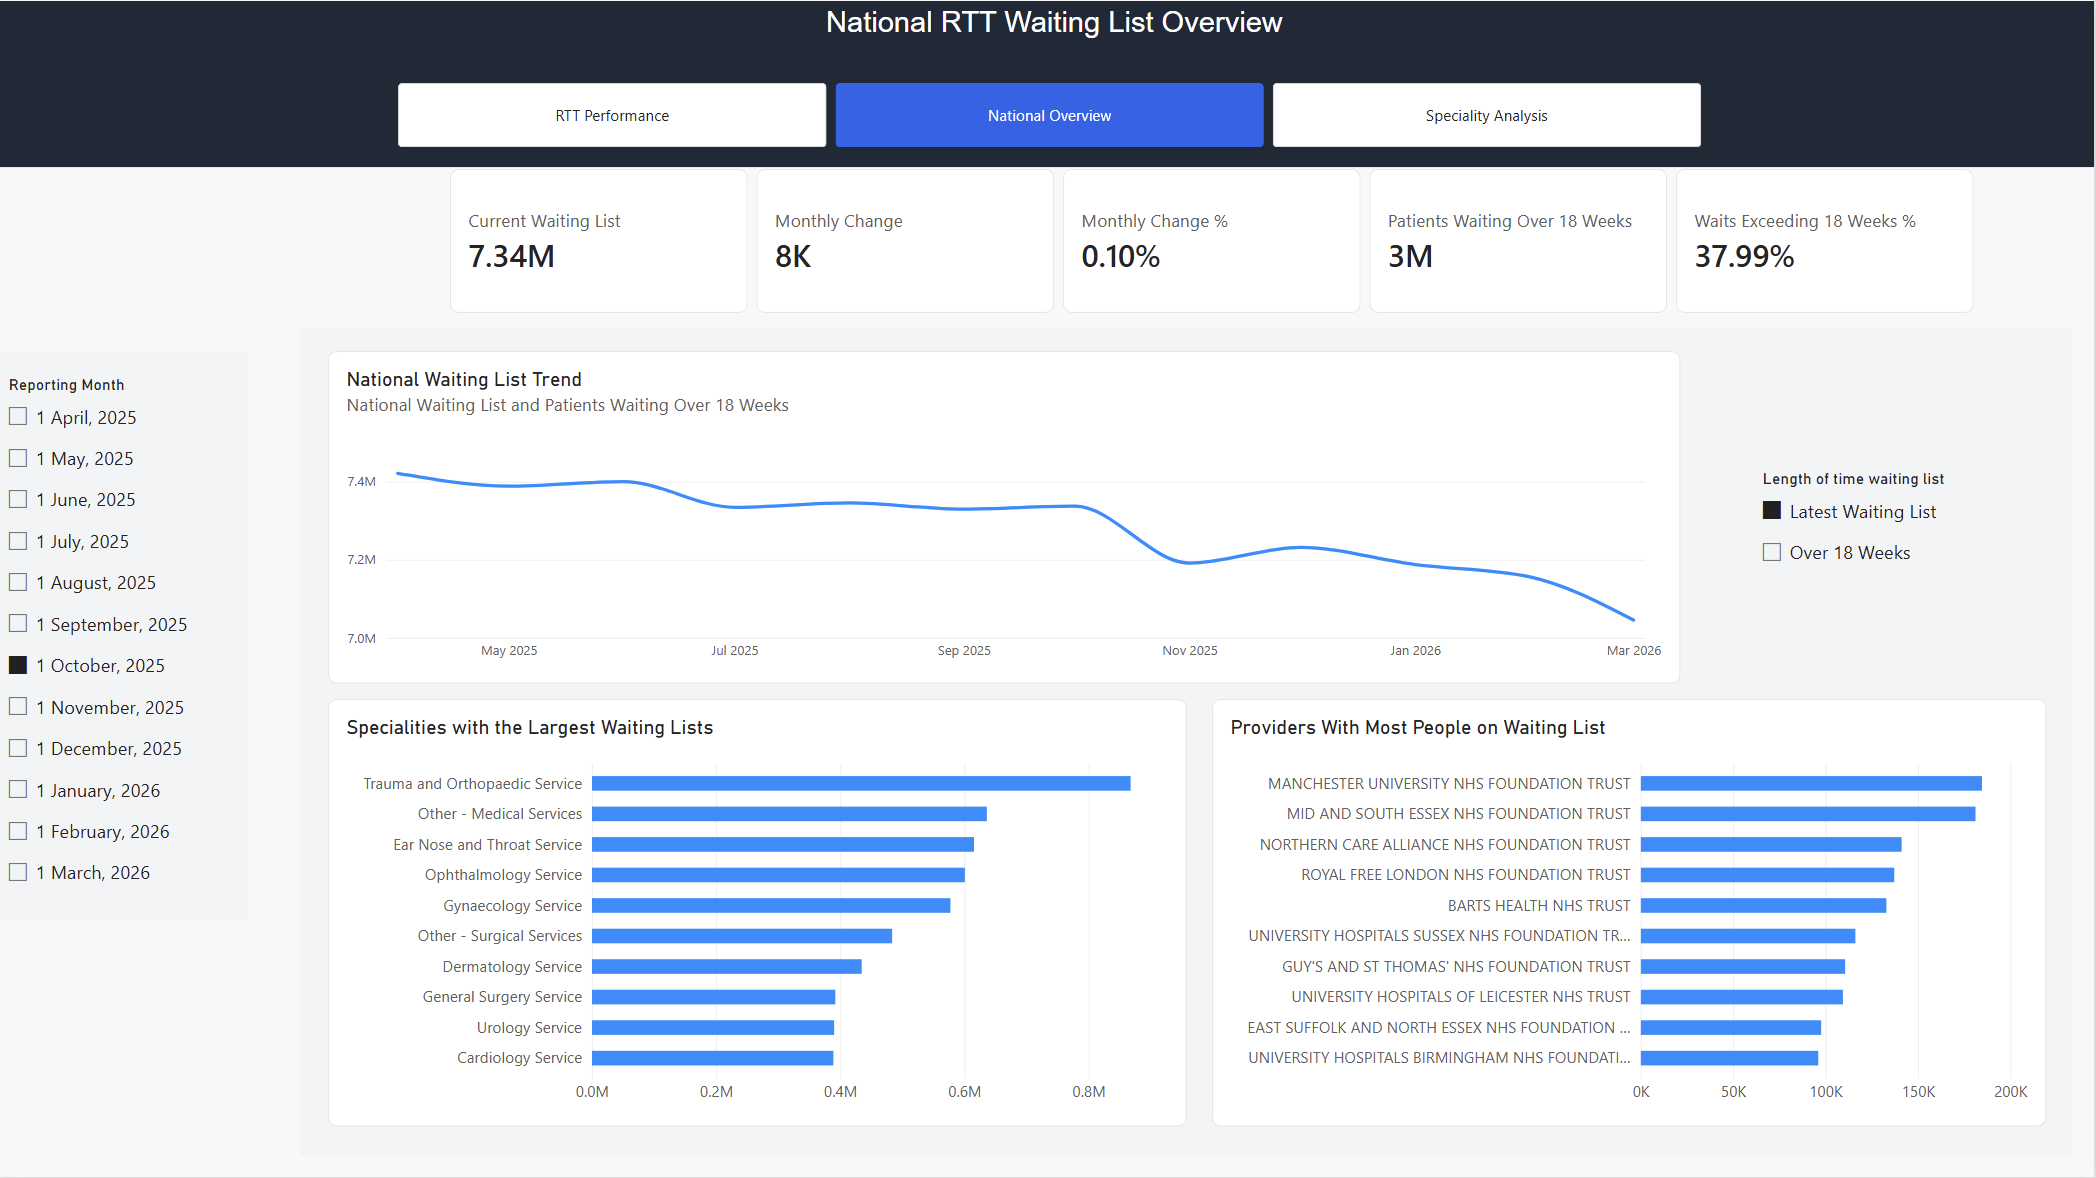

The dashboard page shown, as its layout file describes it:
{"tool":"powerbi","page":{"name":"National Overview","canvas":[1920,1080],"ordinal":1},"visuals":[{"type":"shape","box":[0,2.5,1920,152.6],"z":0,"group":"g1"},{"type":"shape","box":[274.8,302.7,1624.8,757.6],"z":0},{"type":"textbox","box":[595.2,5.8,741.6,74.2],"z":1000,"group":"g1"},{"type":"lineChart","title":"National Waiting List Trend","fields":{"Category":["dim_date.PeriodClean"],"Y":["measures_table.Current Waiting List"]},"box":[300,322.5,1240,305],"z":1000},{"type":"pageNavigator","box":[365.1,78.1,1197,59.9],"z":2000,"group":"g1"},{"type":"cardVisual","fields":{"Data":["measures_table.Latest National Waiting List","measures_table.Monthly Change","measures_table.Monthly Change %","measures_table.Over 18 Weeks (Latest Month)","measures_table.Over 18 Weeks %"]},"box":[412.5,155,1397.5,132.5],"z":2000},{"type":"clusteredBarChart","title":"Specialities with the Largest Waiting Lists","fields":{"Category":["dim_speciality.Treatment Function Name"],"Y":["measures_table.Current Waiting List"]},"box":[300.8,642.5,787.3,391.8],"z":3000},{"type":"clusteredBarChart","title":"Providers With Most People on Waiting List","fields":{"Category":["dim_provider.Provider Org Name"],"Y":["measures_table.Current Waiting List"]},"box":[1110.4,642.5,765,391.8],"z":4000},{"type":"shape","box":[0,322.1,227.8,521.6],"z":5000},{"type":"group","id":"g1","title":"Group 1","box":[0,2.5,1920,152.6],"z":6000},{"type":"slicer","fields":{"Values":["dim_date.PeriodClean"]},"box":[0,344.5,258.5,499.7],"z":7000},{"type":"slicer","fields":{"Values":["Parameter 2.Parameter"]},"box":[1609,431,200.8,110.2],"z":8000}]}

Visuals, with their boxes in screenshot pixels (x1, y1, x2, y2), scaled from the page's 1920x1080 canvas onto the 2096x1178 screenshot:
shape: {"left": 0, "top": 3, "right": 2095, "bottom": 169}
shape: {"left": 300, "top": 330, "right": 2074, "bottom": 1157}
textbox: {"left": 650, "top": 6, "right": 1459, "bottom": 87}
"National Waiting List Trend" lineChart: {"left": 327, "top": 352, "right": 1681, "bottom": 684}
pageNavigator: {"left": 399, "top": 85, "right": 1705, "bottom": 151}
cardVisual - measures_table.Latest National Waiting List x measures_table.Monthly Change: {"left": 450, "top": 169, "right": 1976, "bottom": 314}
"Specialities with the Largest Waiting Lists" clusteredBarChart: {"left": 328, "top": 701, "right": 1188, "bottom": 1128}
"Providers With Most People on Waiting List" clusteredBarChart: {"left": 1212, "top": 701, "right": 2047, "bottom": 1128}
shape: {"left": 0, "top": 351, "right": 249, "bottom": 920}
"Group 1" group: {"left": 0, "top": 3, "right": 2095, "bottom": 169}
slicer - dim_date.PeriodClean: {"left": 0, "top": 376, "right": 282, "bottom": 921}
slicer - Parameter 2.Parameter: {"left": 1756, "top": 470, "right": 1976, "bottom": 590}
